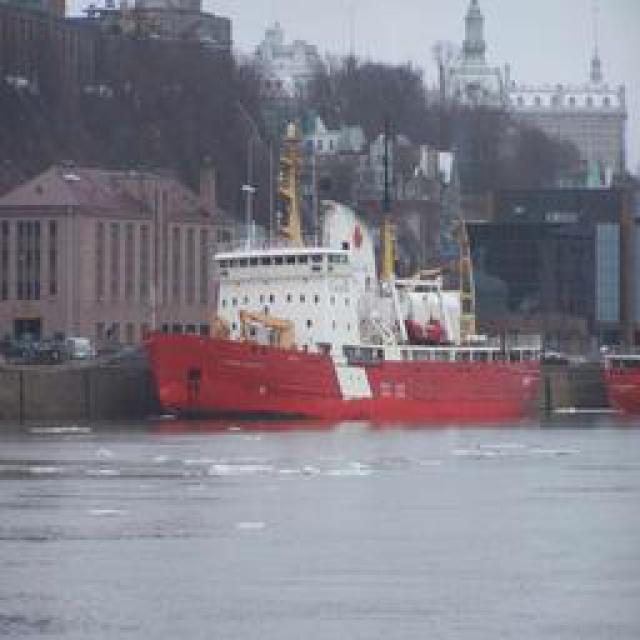Ship: (122, 151, 550, 438)
